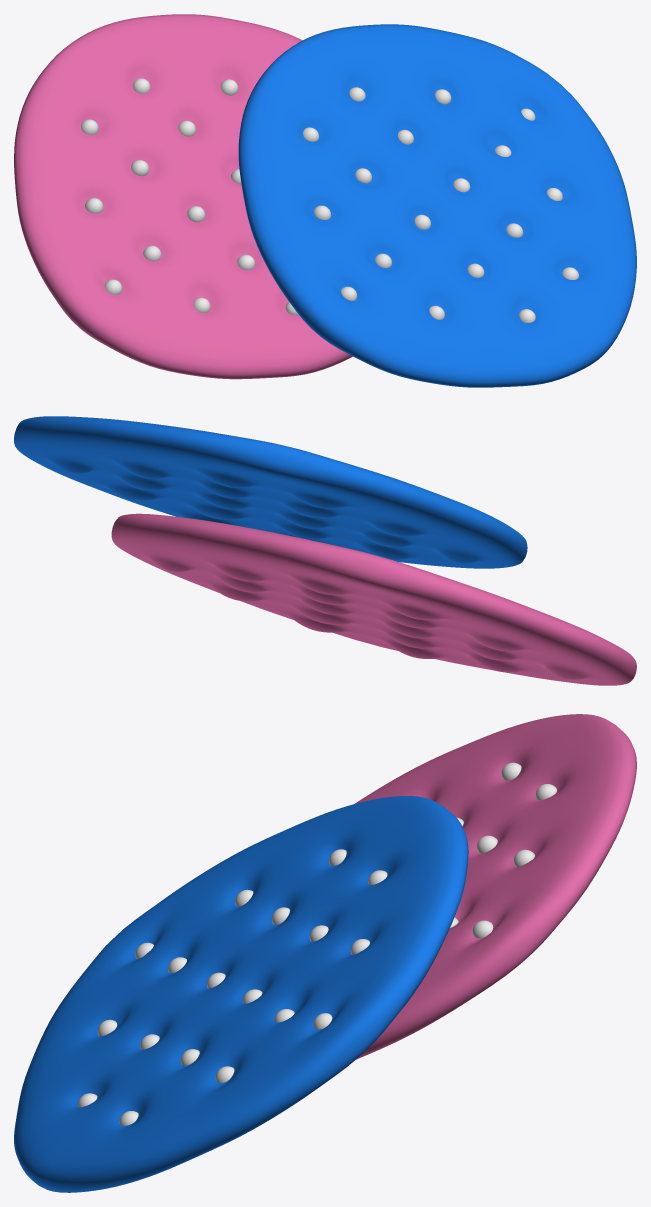
The model's file is cotton-pads-3d-animated-icon-308432944643.glb.
The picture shows the model from 3 angles, top to bottom: view 1: azimuth 30°, elevation 25°; view 2: azimuth 150°, elevation 25°; view 3: azimuth 270°, elevation 25°; orthographic projection. The views are drawn at different scales.
Parts seen in each view (by area): view 1: Plane.022, Plane.020; view 2: Plane.022, Plane.020; view 3: Plane.022, Plane.020.
Boxes of the visible parts, box(x1,y1,x2,y2) form: Plane.022: box(238, 24, 636, 387); Plane.020: box(14, 14, 352, 379); Plane.022: box(14, 416, 527, 568); Plane.020: box(111, 513, 636, 685); Plane.022: box(14, 796, 468, 1192); Plane.020: box(355, 714, 636, 1059).
Bounding box in the file's own units: 0.7484 × 0.3195 × 0.604.
